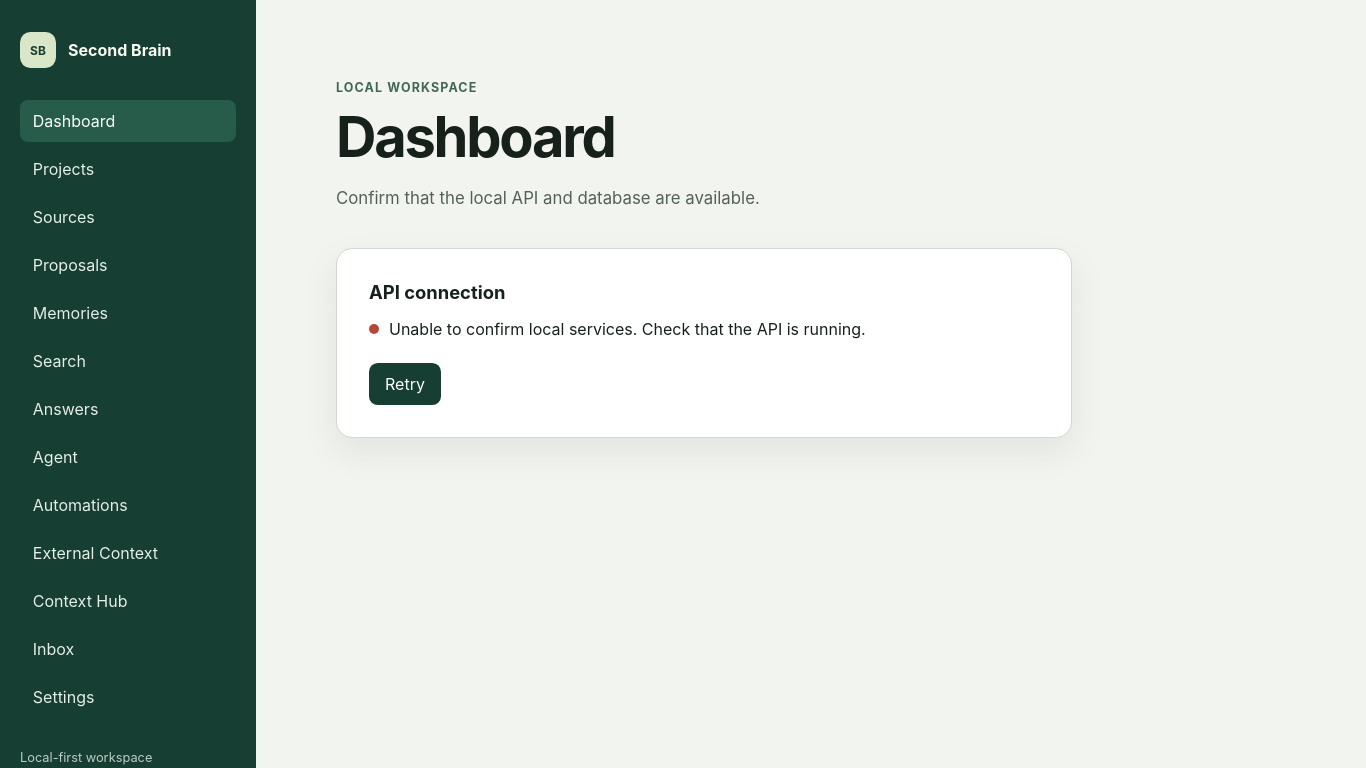
dashboard › performs new requests when Retry is activated
Click the button "Retry": (405, 384) x1=369 y1=363 x2=441 y2=405
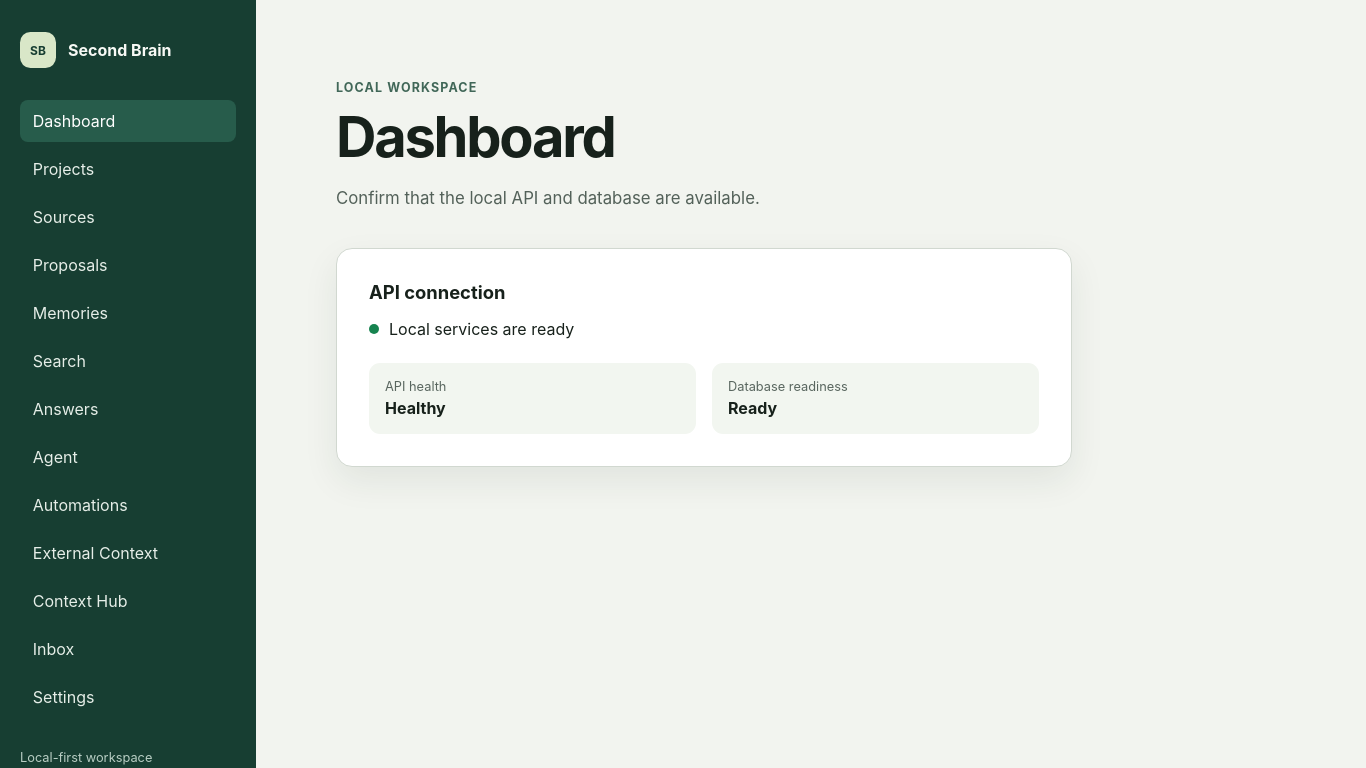
Result: the text "Local services are ready" is shown at x1=369 y1=319 x2=574 y2=339
